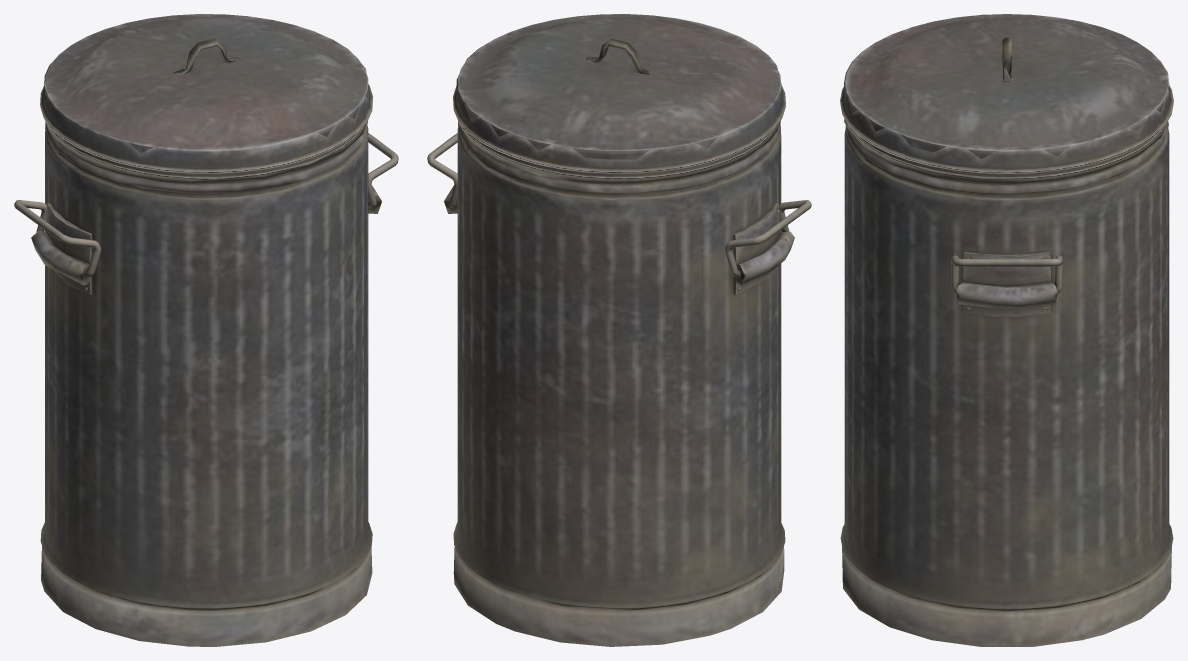
The model's file is metal-trash-can-lod1.glb.
The picture shows the model from 3 angles, left to right: view 1: azimuth 30°, elevation 25°; view 2: azimuth 150°, elevation 25°; view 3: azimuth 270°, elevation 25°; orthographic projection.
Visible parts, largest first — view 1: metal_trash_can_handle_left; view 2: metal_trash_can_handle_left; view 3: metal_trash_can_handle_left.
Boxes of the visible parts, left/top/right/bottom form: metal_trash_can_handle_left: left=14, top=14, right=398, bottom=646; metal_trash_can_handle_left: left=427, top=14, right=811, bottom=646; metal_trash_can_handle_left: left=840, top=14, right=1173, bottom=646.
Bounding box in the file's own units: 0.651 × 0.9817 × 0.5543.
Materials: 1 (1 with a texture image).
